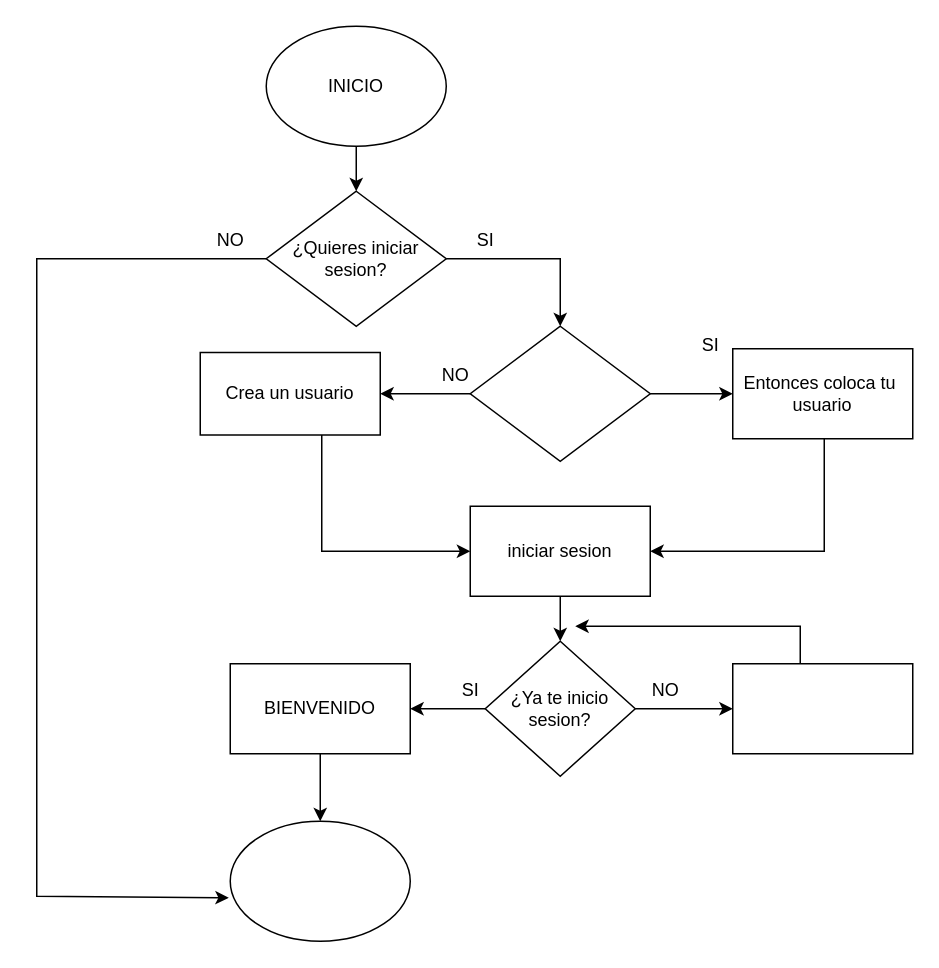
This 939x968 diagram has some shape labels left out. Here are the shapes that lost their labels. From the top down, the box of each, then its label:
(469, 325, 650, 461): ¿Tienes cuenta?
(731, 662, 913, 754): Vuelve a intentarlo
(229, 820, 410, 941): FIN
